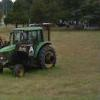Tractor: (4, 16, 61, 82)
